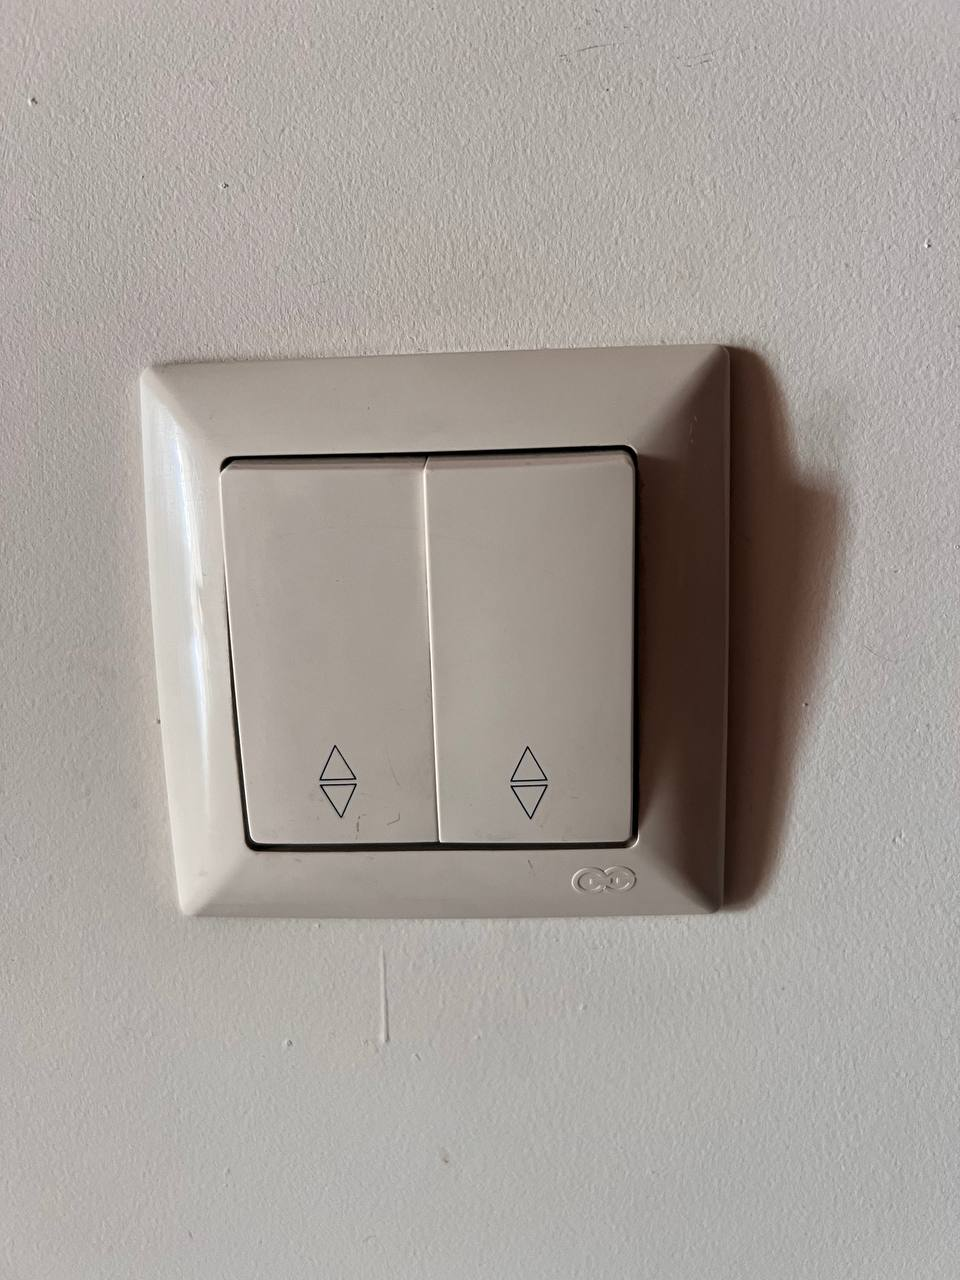Light Switcher: (161, 346, 726, 919)
